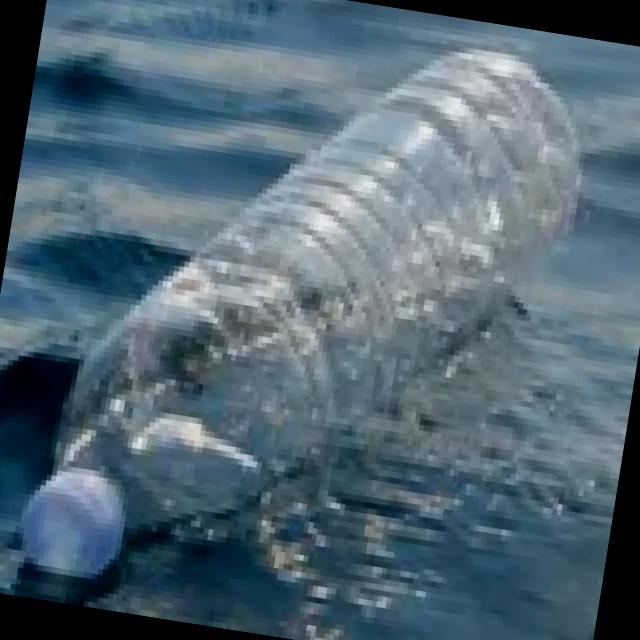Recycle: (10, 0, 612, 640)
